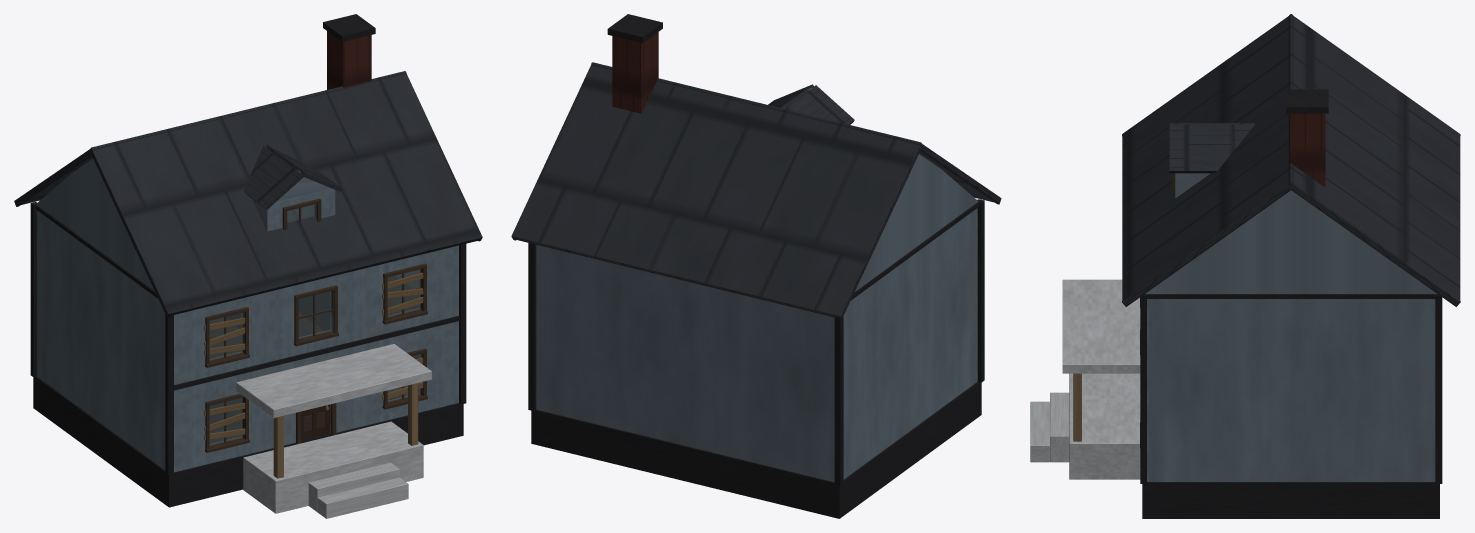
File: House_B_Suburban.fbx
3 views of the same model, side by side, from view 1: azimuth 30°, elevation 25°; view 2: azimuth 150°, elevation 25°; view 3: azimuth 270°, elevation 25° (orthographic). The views are drawn at different scales.
Visible parts, largest first — view 1: House_B_Suburban_Exterior, House_B_Suburban_WindowGlass, House_B_Suburban_Interior, House_B_Suburban_WindowBoards, House_B_Suburban_FrontDoor; view 2: House_B_Suburban_Exterior; view 3: House_B_Suburban_Exterior.
Boxes of the visible parts, x1,y1,x2,y2 form: House_B_Suburban_Exterior: (14,14,482,518); House_B_Suburban_WindowGlass: (209,204,420,445); House_B_Suburban_Interior: (210,275,418,443); House_B_Suburban_WindowBoards: (204,272,427,440); House_B_Suburban_FrontDoor: (301,404,329,440); House_B_Suburban_Exterior: (511,14,1001,518); House_B_Suburban_Exterior: (1030,14,1460,518).
Bounding box in the file's own units: 48.8 × 54.1 × 52.78.
Materials: 2 (1 with a texture image).
